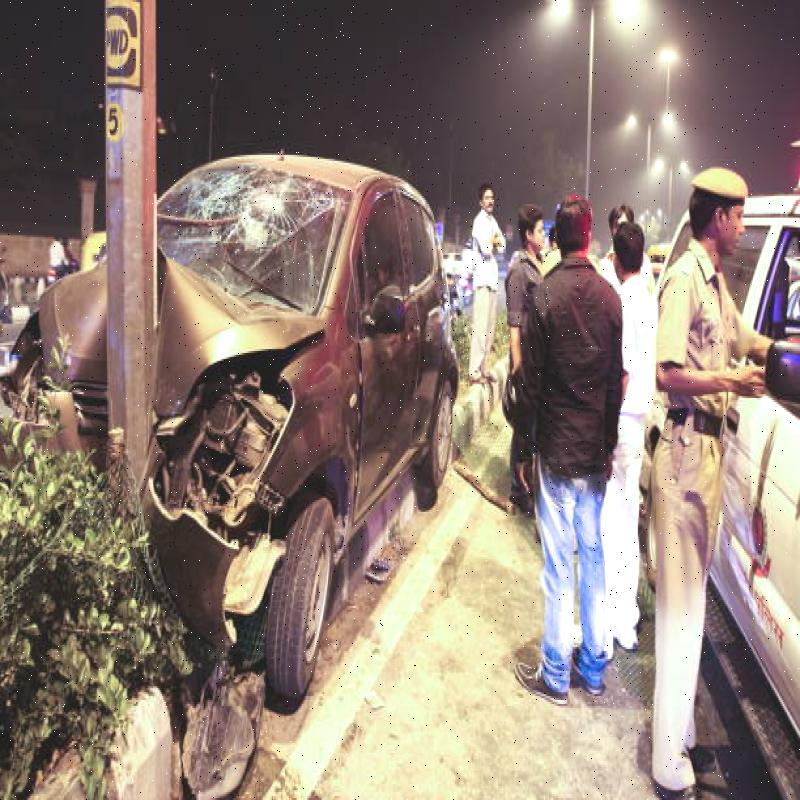auto: (161, 146, 459, 672)
